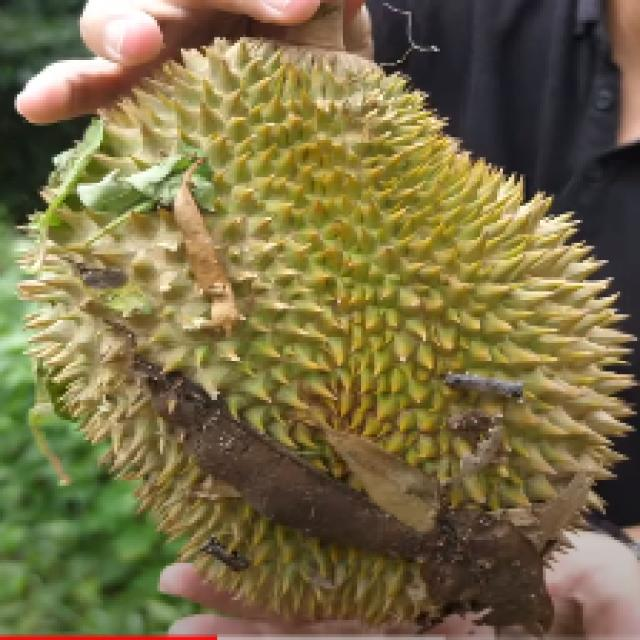d24: (52, 65, 609, 622)
